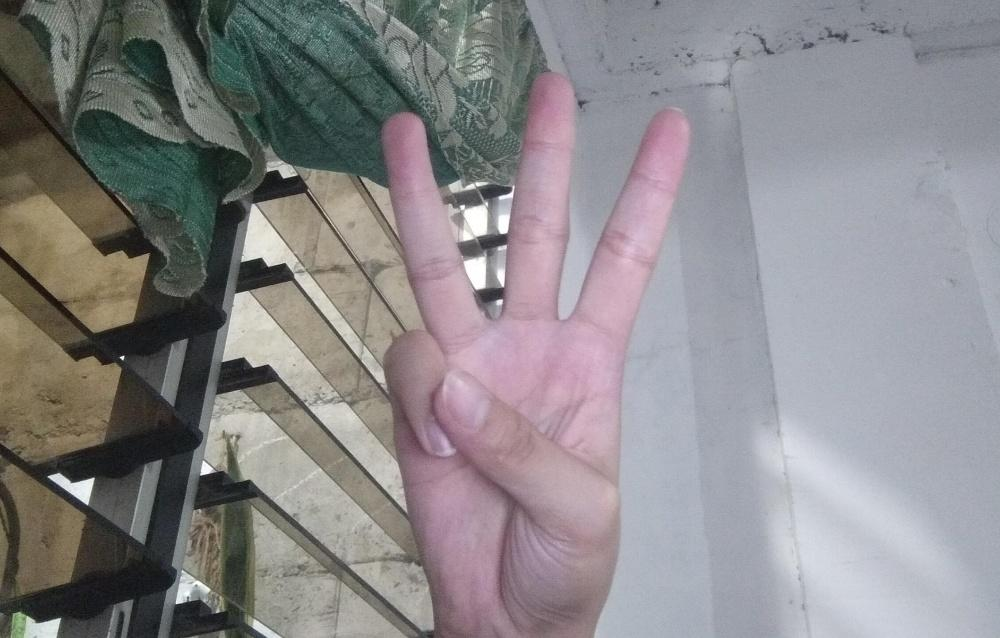w: (376, 71, 692, 634)
